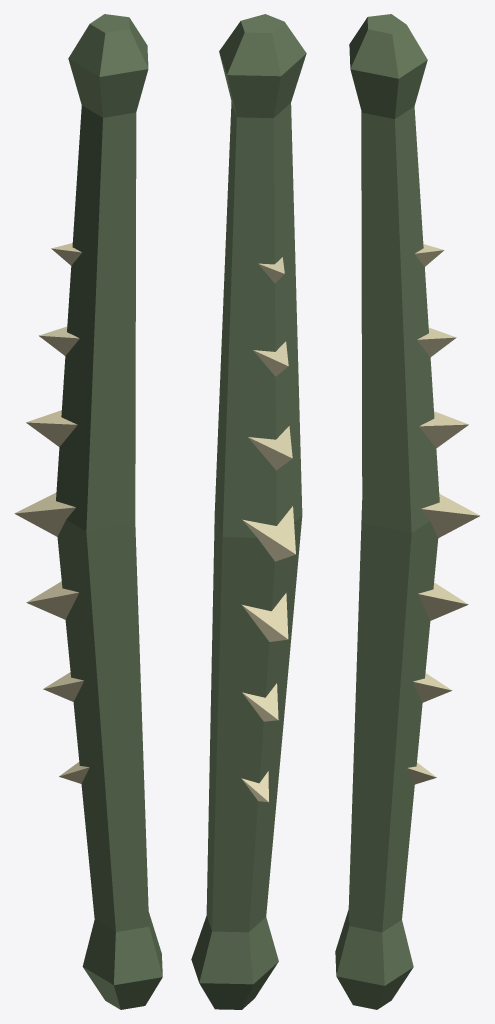
Rendered from LarvaeLegLowerLB.fbx.
The picture shows the model from 3 angles, left to right: view 1: azimuth 90°, elevation 25°; view 2: azimuth 210°, elevation 25°; view 3: azimuth 270°, elevation 25°; orthographic projection. The views are drawn at different scales.
Visible parts, largest first — view 1: Forearm6; view 2: Forearm6; view 3: Forearm6.
Part boxes in pixels (x1,y1,x2,y2): Forearm6: (14, 14, 162, 1009); Forearm6: (191, 14, 306, 1009); Forearm6: (335, 14, 480, 1009).
Size of the model in its own units: 0.9031 by 8.35 by 1.14.
